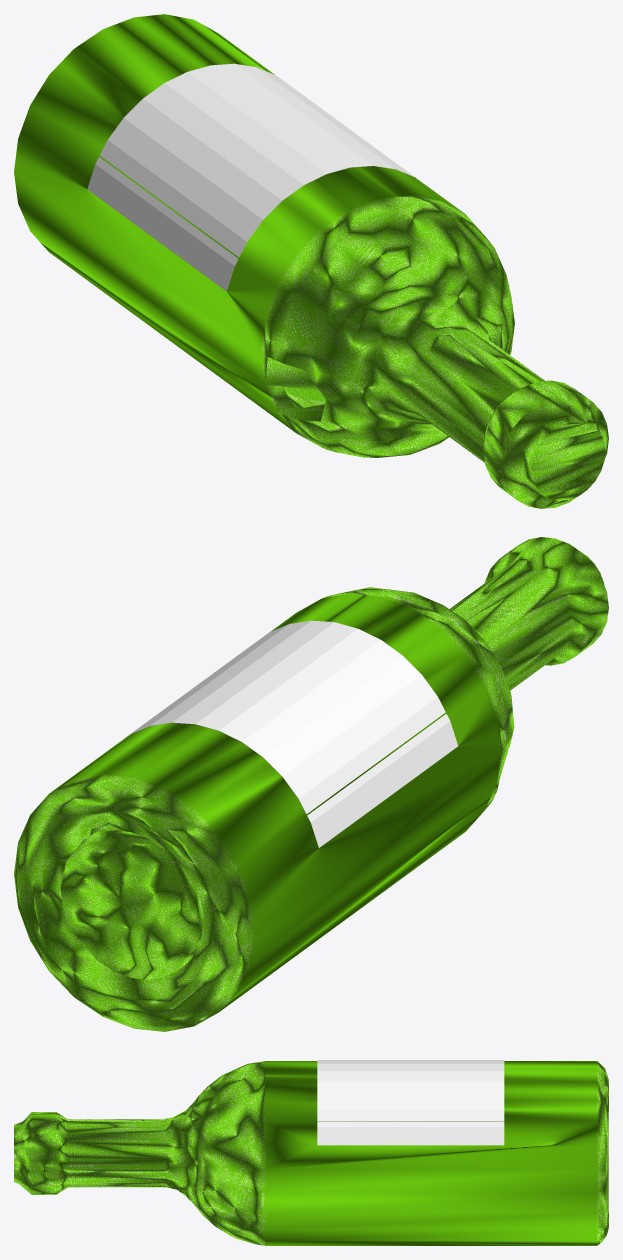
File: model_align.obj
3 renders of one model, top to bottom at view 1: azimuth 30°, elevation 25°; view 2: azimuth 150°, elevation 25°; view 3: azimuth 270°, elevation 25°, orthographic. The views are drawn at different scales.
Bounding box in the file's own units: 0.073 × 0.0733 × 0.2339.
